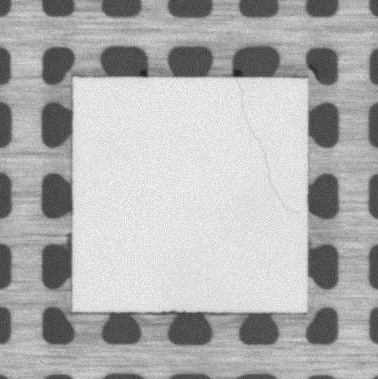DIE_CRACK: (235, 78, 302, 214)
